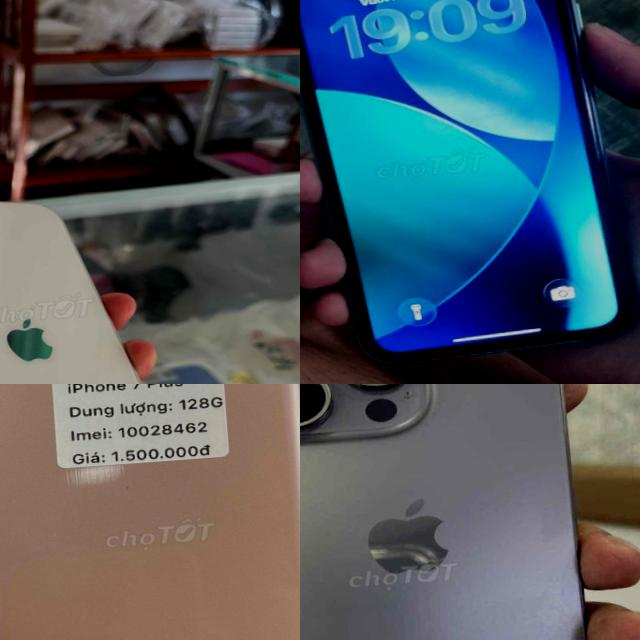scratch: (120, 472, 141, 496)
